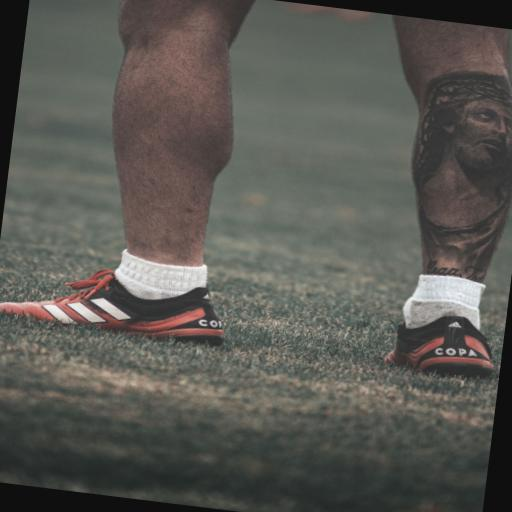shoe: (0, 270, 224, 345), (385, 317, 492, 377)
